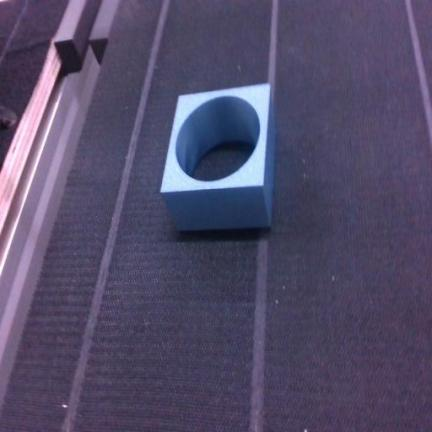hole: (161, 84, 275, 230)
